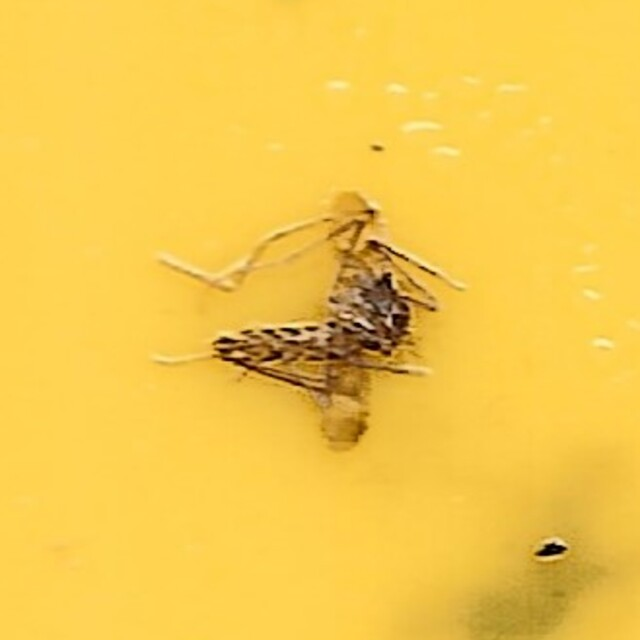Nematocera: (195, 175, 445, 465)
